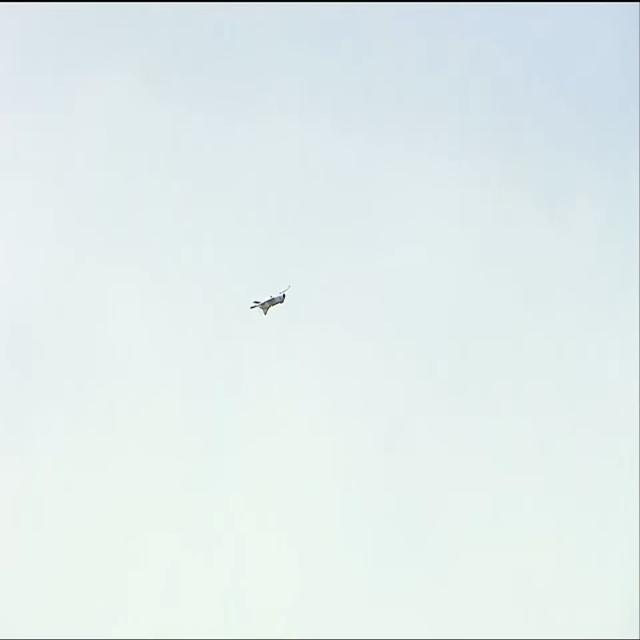iha: (250, 285, 292, 316)
